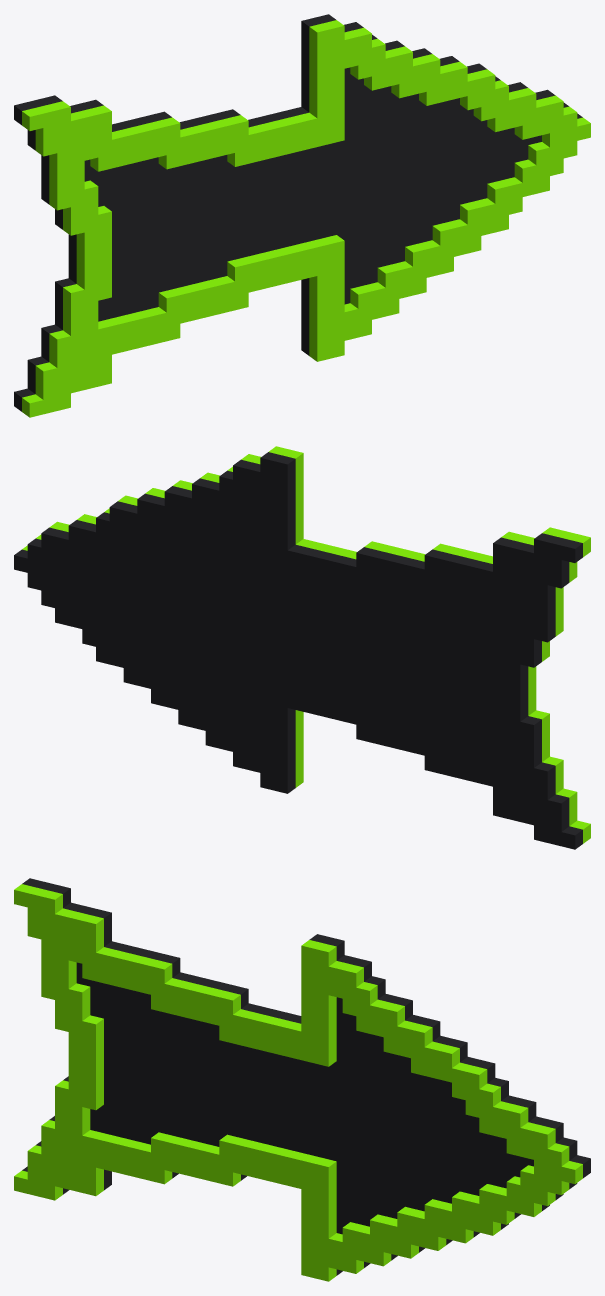
File: Signborad_003.obj
3 views of the same model, one above another, from view 1: azimuth 30°, elevation 25°; view 2: azimuth 150°, elevation 25°; view 3: azimuth 330°, elevation 25° (orthographic).
Size of the model in its own units: 4.1 by 2.3 by 0.2.
1 material, 1 textured.
